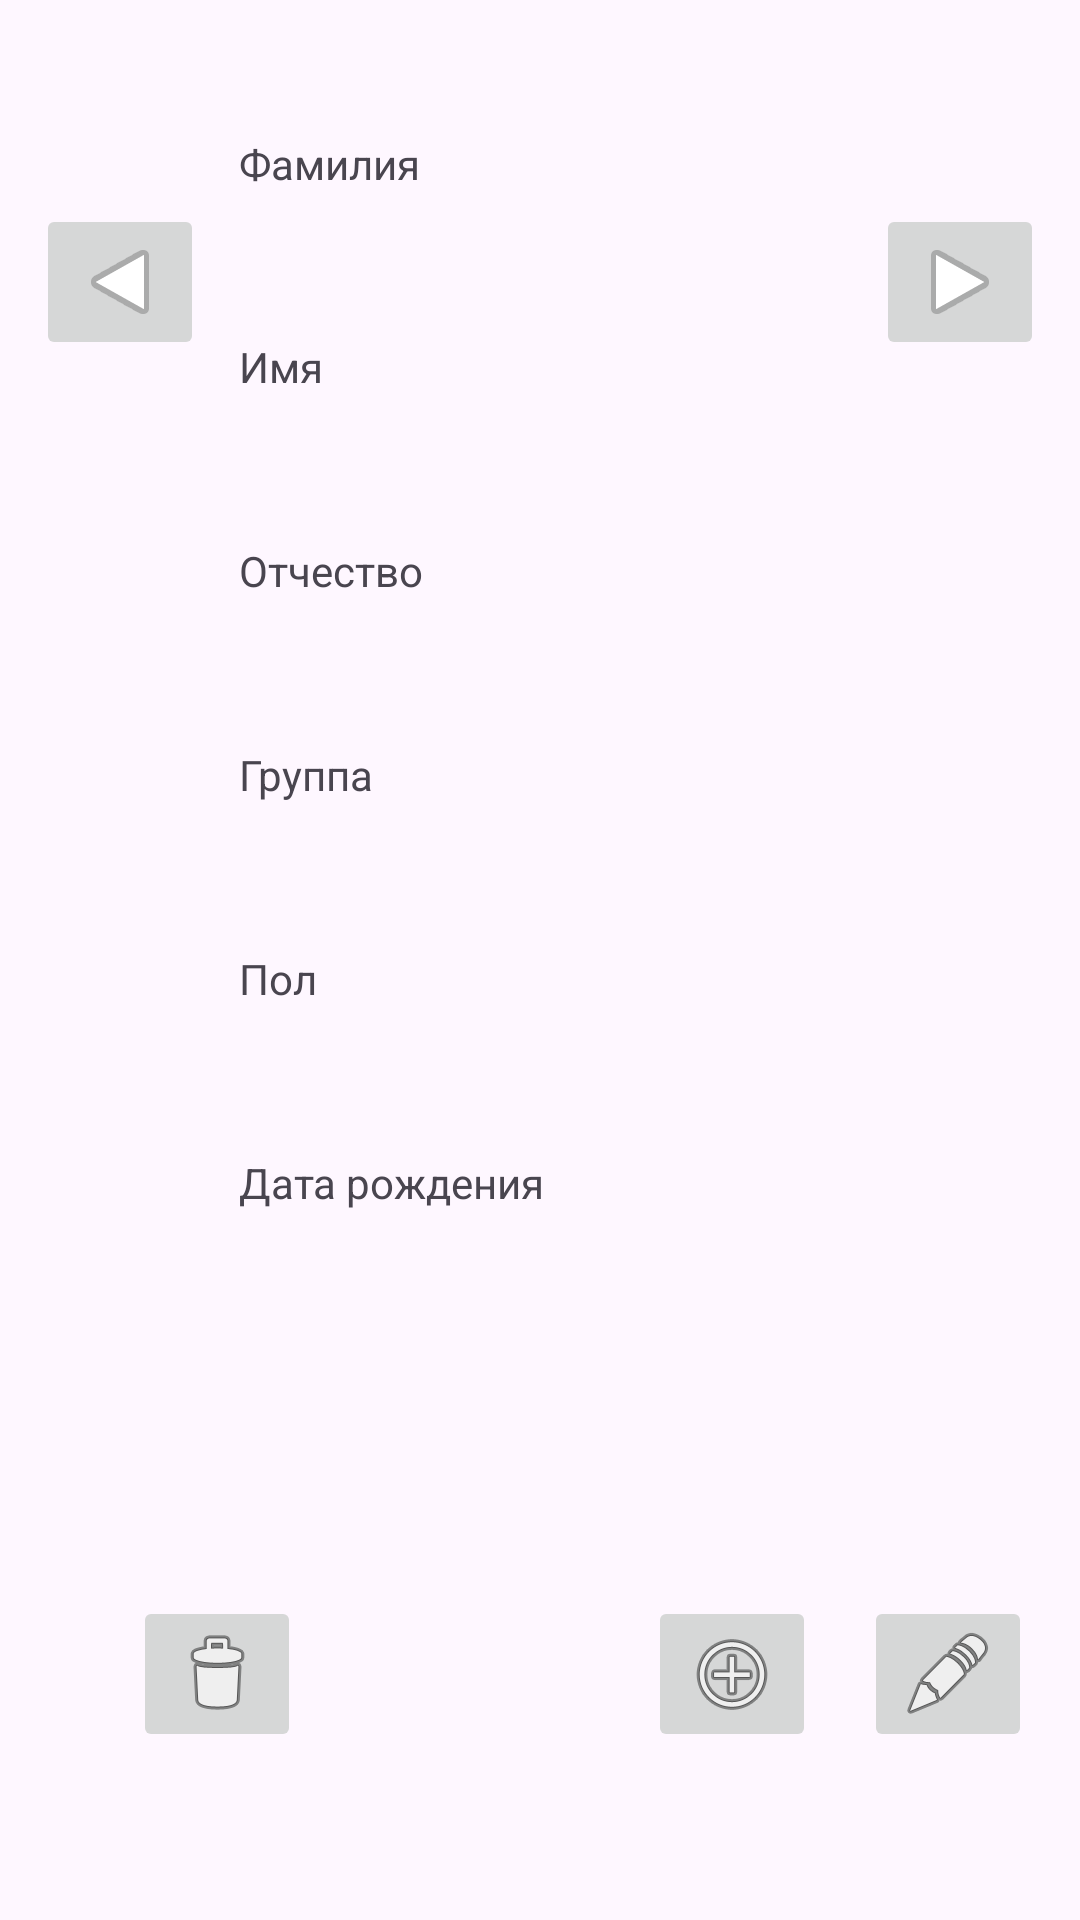

Icons on this 1080*1920 Android screen, each with the point to tap as [x,y]:
add: [732,1674]
delete: [217,1674]
edit: [948,1674]
